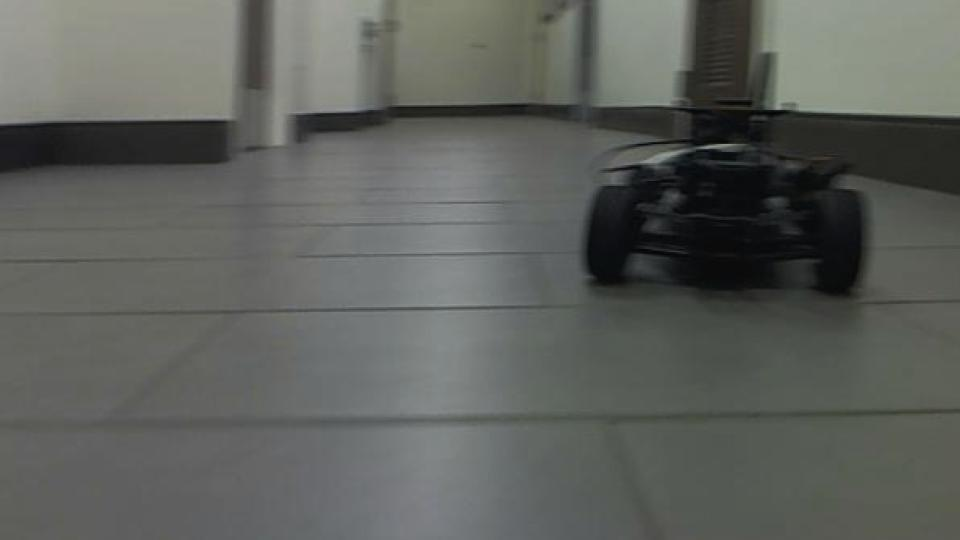car: (580, 97, 870, 297)
